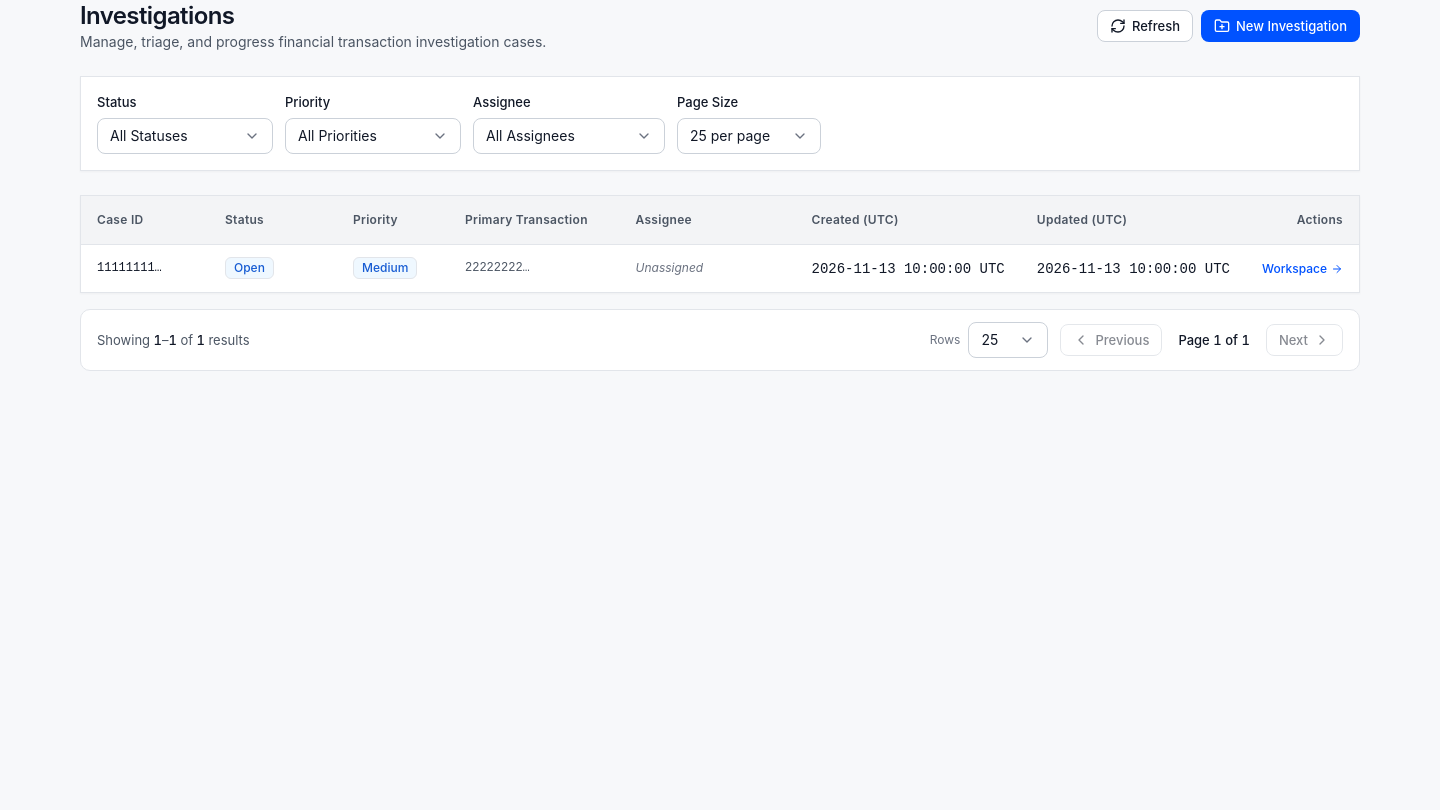
Test: InvestigationsQueuePage component (F5.2–F5.3) › opens New Investigation dialog when permitted and submits successfully
Later steps or results of the test are not shown.
Expected: the element with test id "investigation-queue-table" is shown, x1=80 y1=195 x2=1360 y2=371
Step 1. Click the button with test id "new-investigation-button" → (1280, 26), box x1=1201 y1=10 x2=1360 y2=42
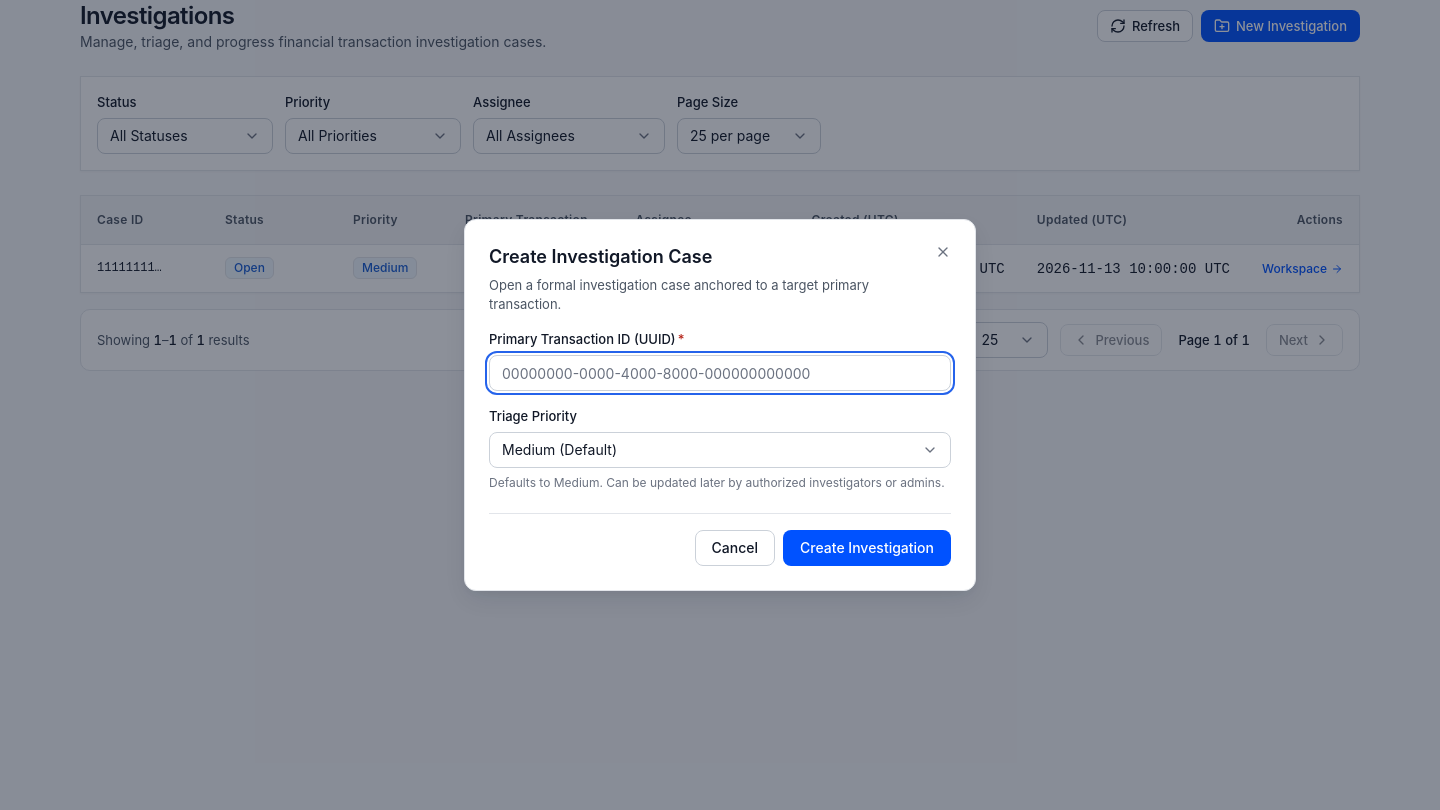
Expected: the dialog is shown, x1=464 y1=219 x2=976 y2=591
Expected: the heading "Create Investigation Case" is shown, x1=489 y1=246 x2=712 y2=267
